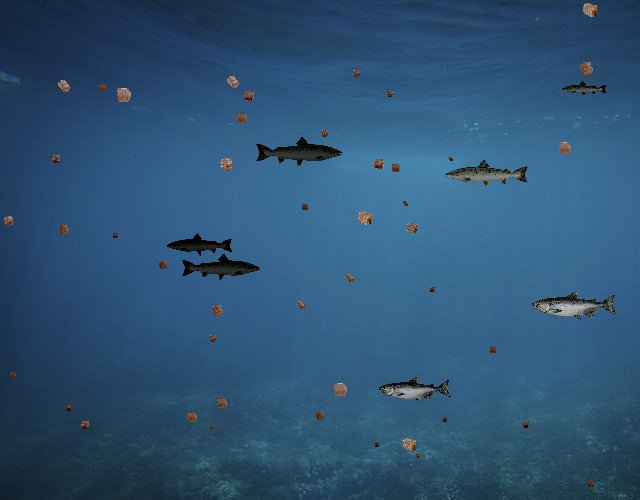Fish: (254, 136, 344, 168), (444, 158, 530, 189), (532, 290, 618, 321), (181, 253, 262, 282), (379, 377, 452, 403), (166, 232, 234, 257), (561, 81, 608, 98)
Pellet: (108, 80, 138, 110), (238, 85, 260, 107), (0, 210, 20, 232), (340, 269, 359, 288), (386, 159, 404, 177), (518, 418, 532, 432), (426, 283, 439, 296), (109, 230, 121, 242), (206, 422, 216, 432)
